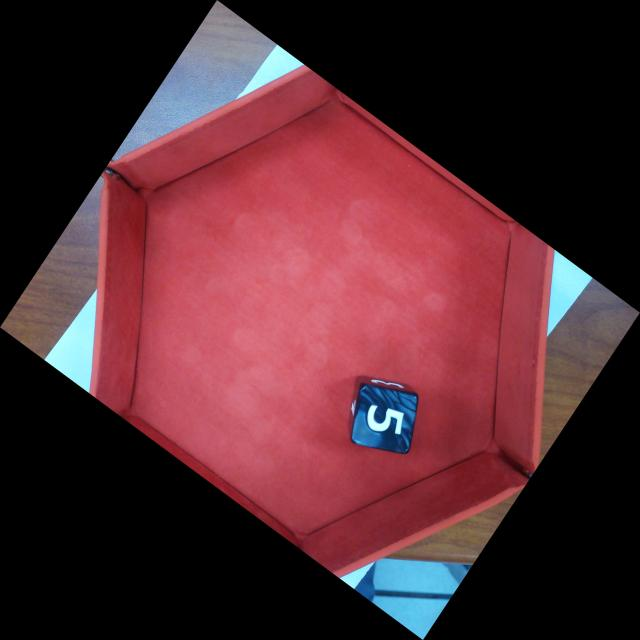dice: (349, 381, 421, 457)
